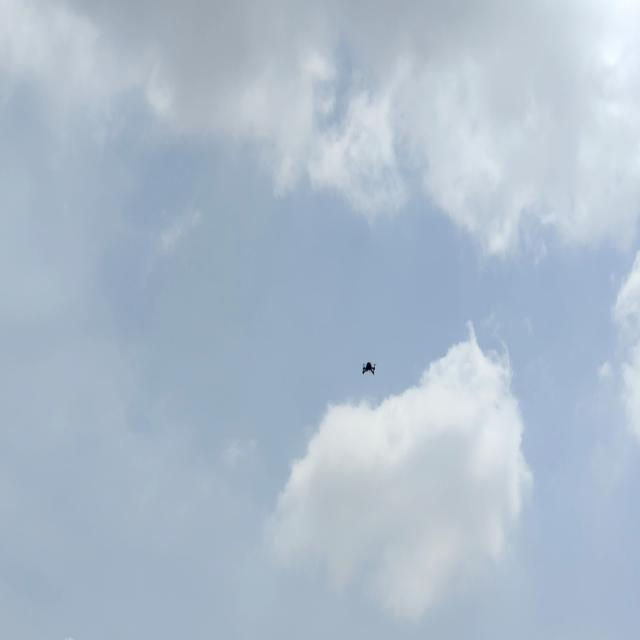drone: (361, 357, 377, 379)
